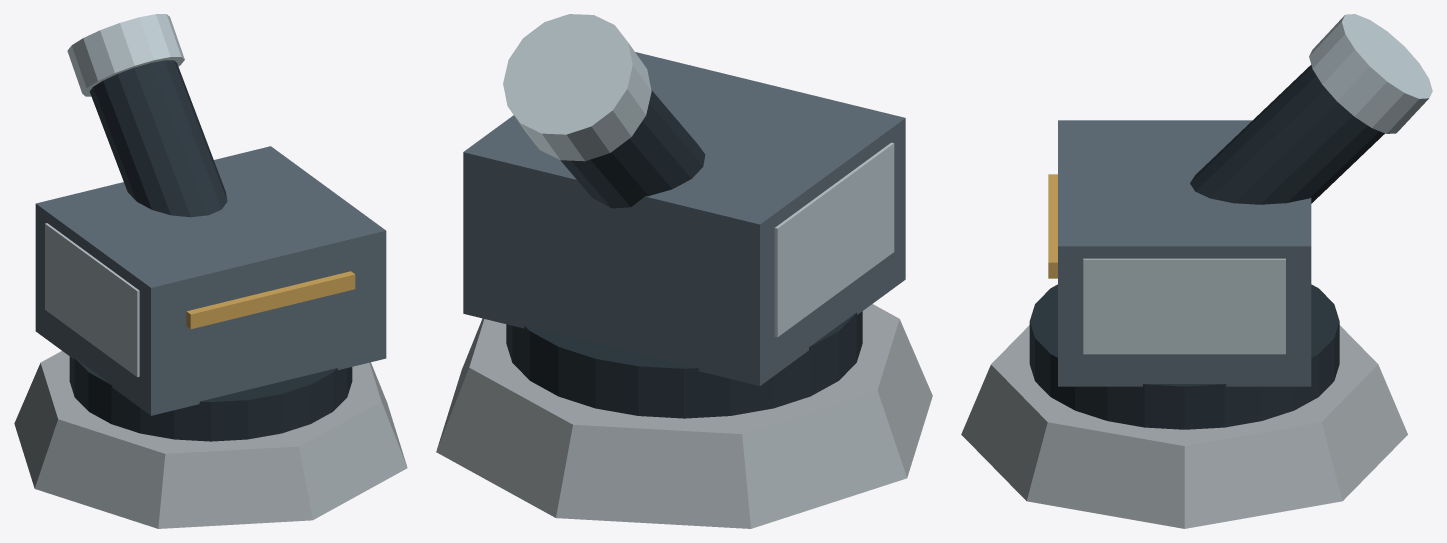
The model's file is mortar.glb.
3 views of the same model, side by side, from view 1: azimuth 30°, elevation 25°; view 2: azimuth 150°, elevation 25°; view 3: azimuth 270°, elevation 25° (orthographic). The views are drawn at different scales.
Parts seen in each view (by area): view 1: armored turret, octagonal emplacement, mortar barrel, azimuth bearing, side armor module, mortar rim, gold identification bar; view 2: armored turret, octagonal emplacement, azimuth bearing, mortar rim, side armor module, mortar barrel; view 3: octagonal emplacement, armored turret, side armor module.001, azimuth bearing, mortar barrel, mortar rim, gold identification bar.
Boxes of the visible parts, <box> form: armored turret: <box>35,146,386,415</box>; octagonal emplacement: <box>14,351,407,528</box>; mortar barrel: <box>89,60,227,217</box>; azimuth bearing: <box>69,356,352,441</box>; side armor module: <box>45,223,139,377</box>; mortar rim: <box>67,14,184,96</box>; gold identification bar: <box>186,271,355,329</box>; armored turret: <box>463,52,905,385</box>; octagonal emplacement: <box>436,304,932,528</box>; azimuth bearing: <box>506,311,862,418</box>; mortar rim: <box>503,14,651,161</box>; side armor module: <box>774,142,894,337</box>; mortar barrel: <box>560,90,705,208</box>; octagonal emplacement: <box>961,325,1407,528</box>; armored turret: <box>1058,120,1311,386</box>; side armor module.001: <box>1083,258,1285,354</box>; azimuth bearing: <box>1029,284,1339,429</box>; mortar barrel: <box>1190,65,1384,204</box>; mortar rim: <box>1309,14,1432,133</box>; gold identification bar: <box>1048,174,1057,278</box>.
Bounding box in the file's own units: 1.5 × 1.53 × 1.58.
